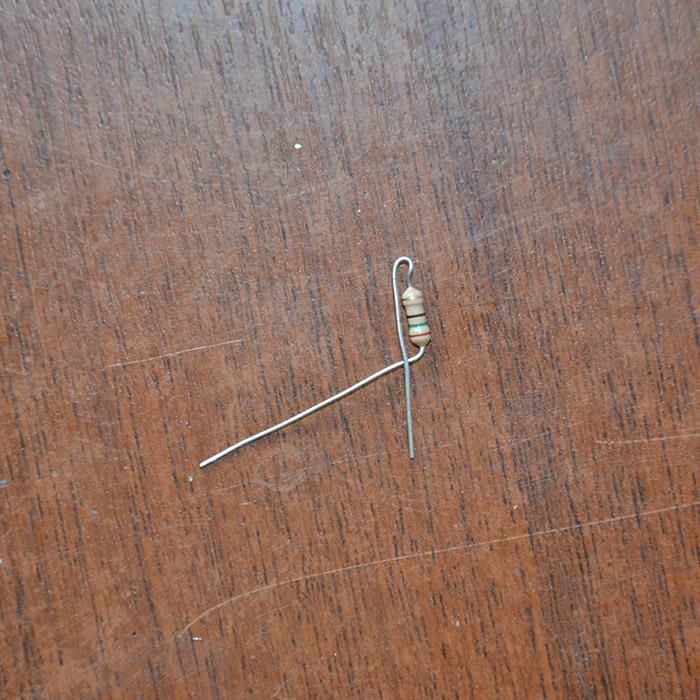resistor: (399, 284, 431, 347)
